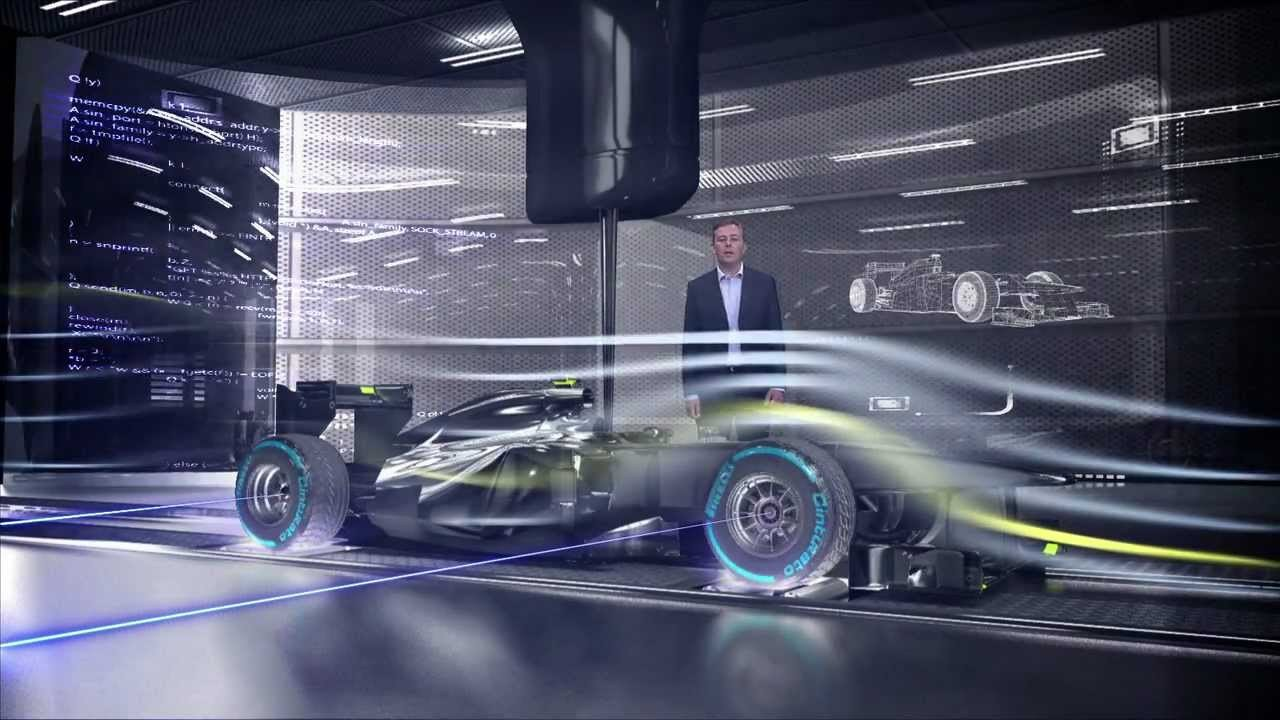f1_car: (224, 353, 1084, 623)
